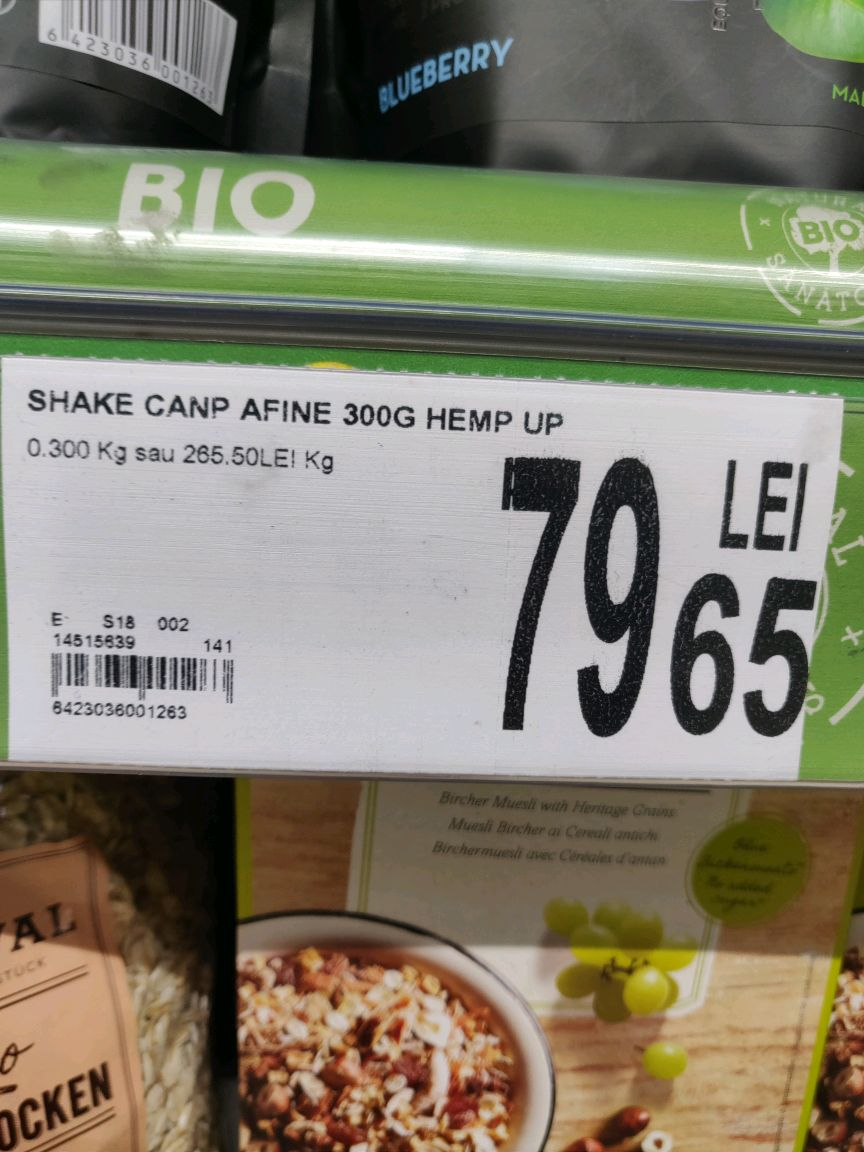price_bani: (665, 565, 831, 751)
price_lei: (457, 448, 672, 747)
price_tag: (1, 351, 855, 811)
product_id: (38, 700, 199, 728)
product_name: (18, 380, 568, 440)
